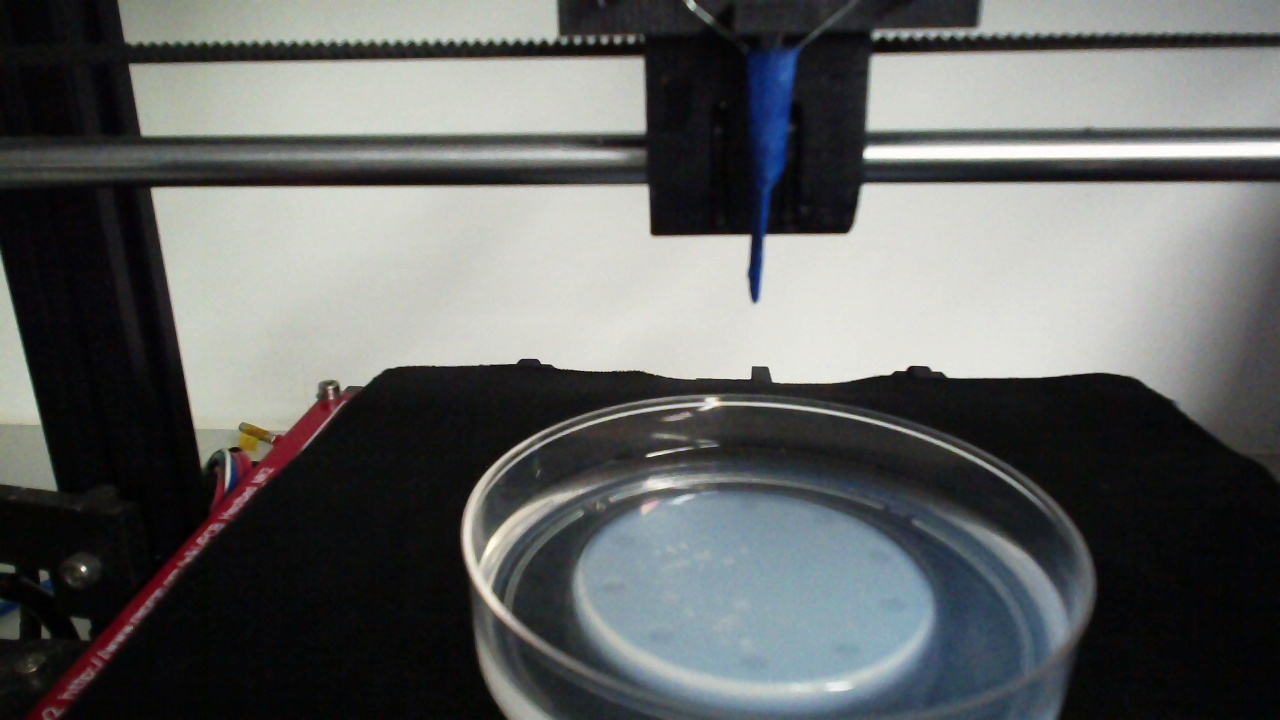groove: (739, 657, 773, 673), (832, 643, 863, 660), (878, 597, 908, 613), (646, 629, 674, 645), (812, 511, 836, 527), (611, 533, 639, 546), (603, 582, 627, 596), (871, 552, 893, 566), (740, 497, 760, 512)
needle: (751, 54, 795, 300)
